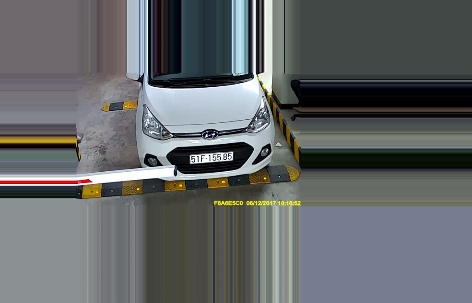plate: (187, 147, 238, 168)
